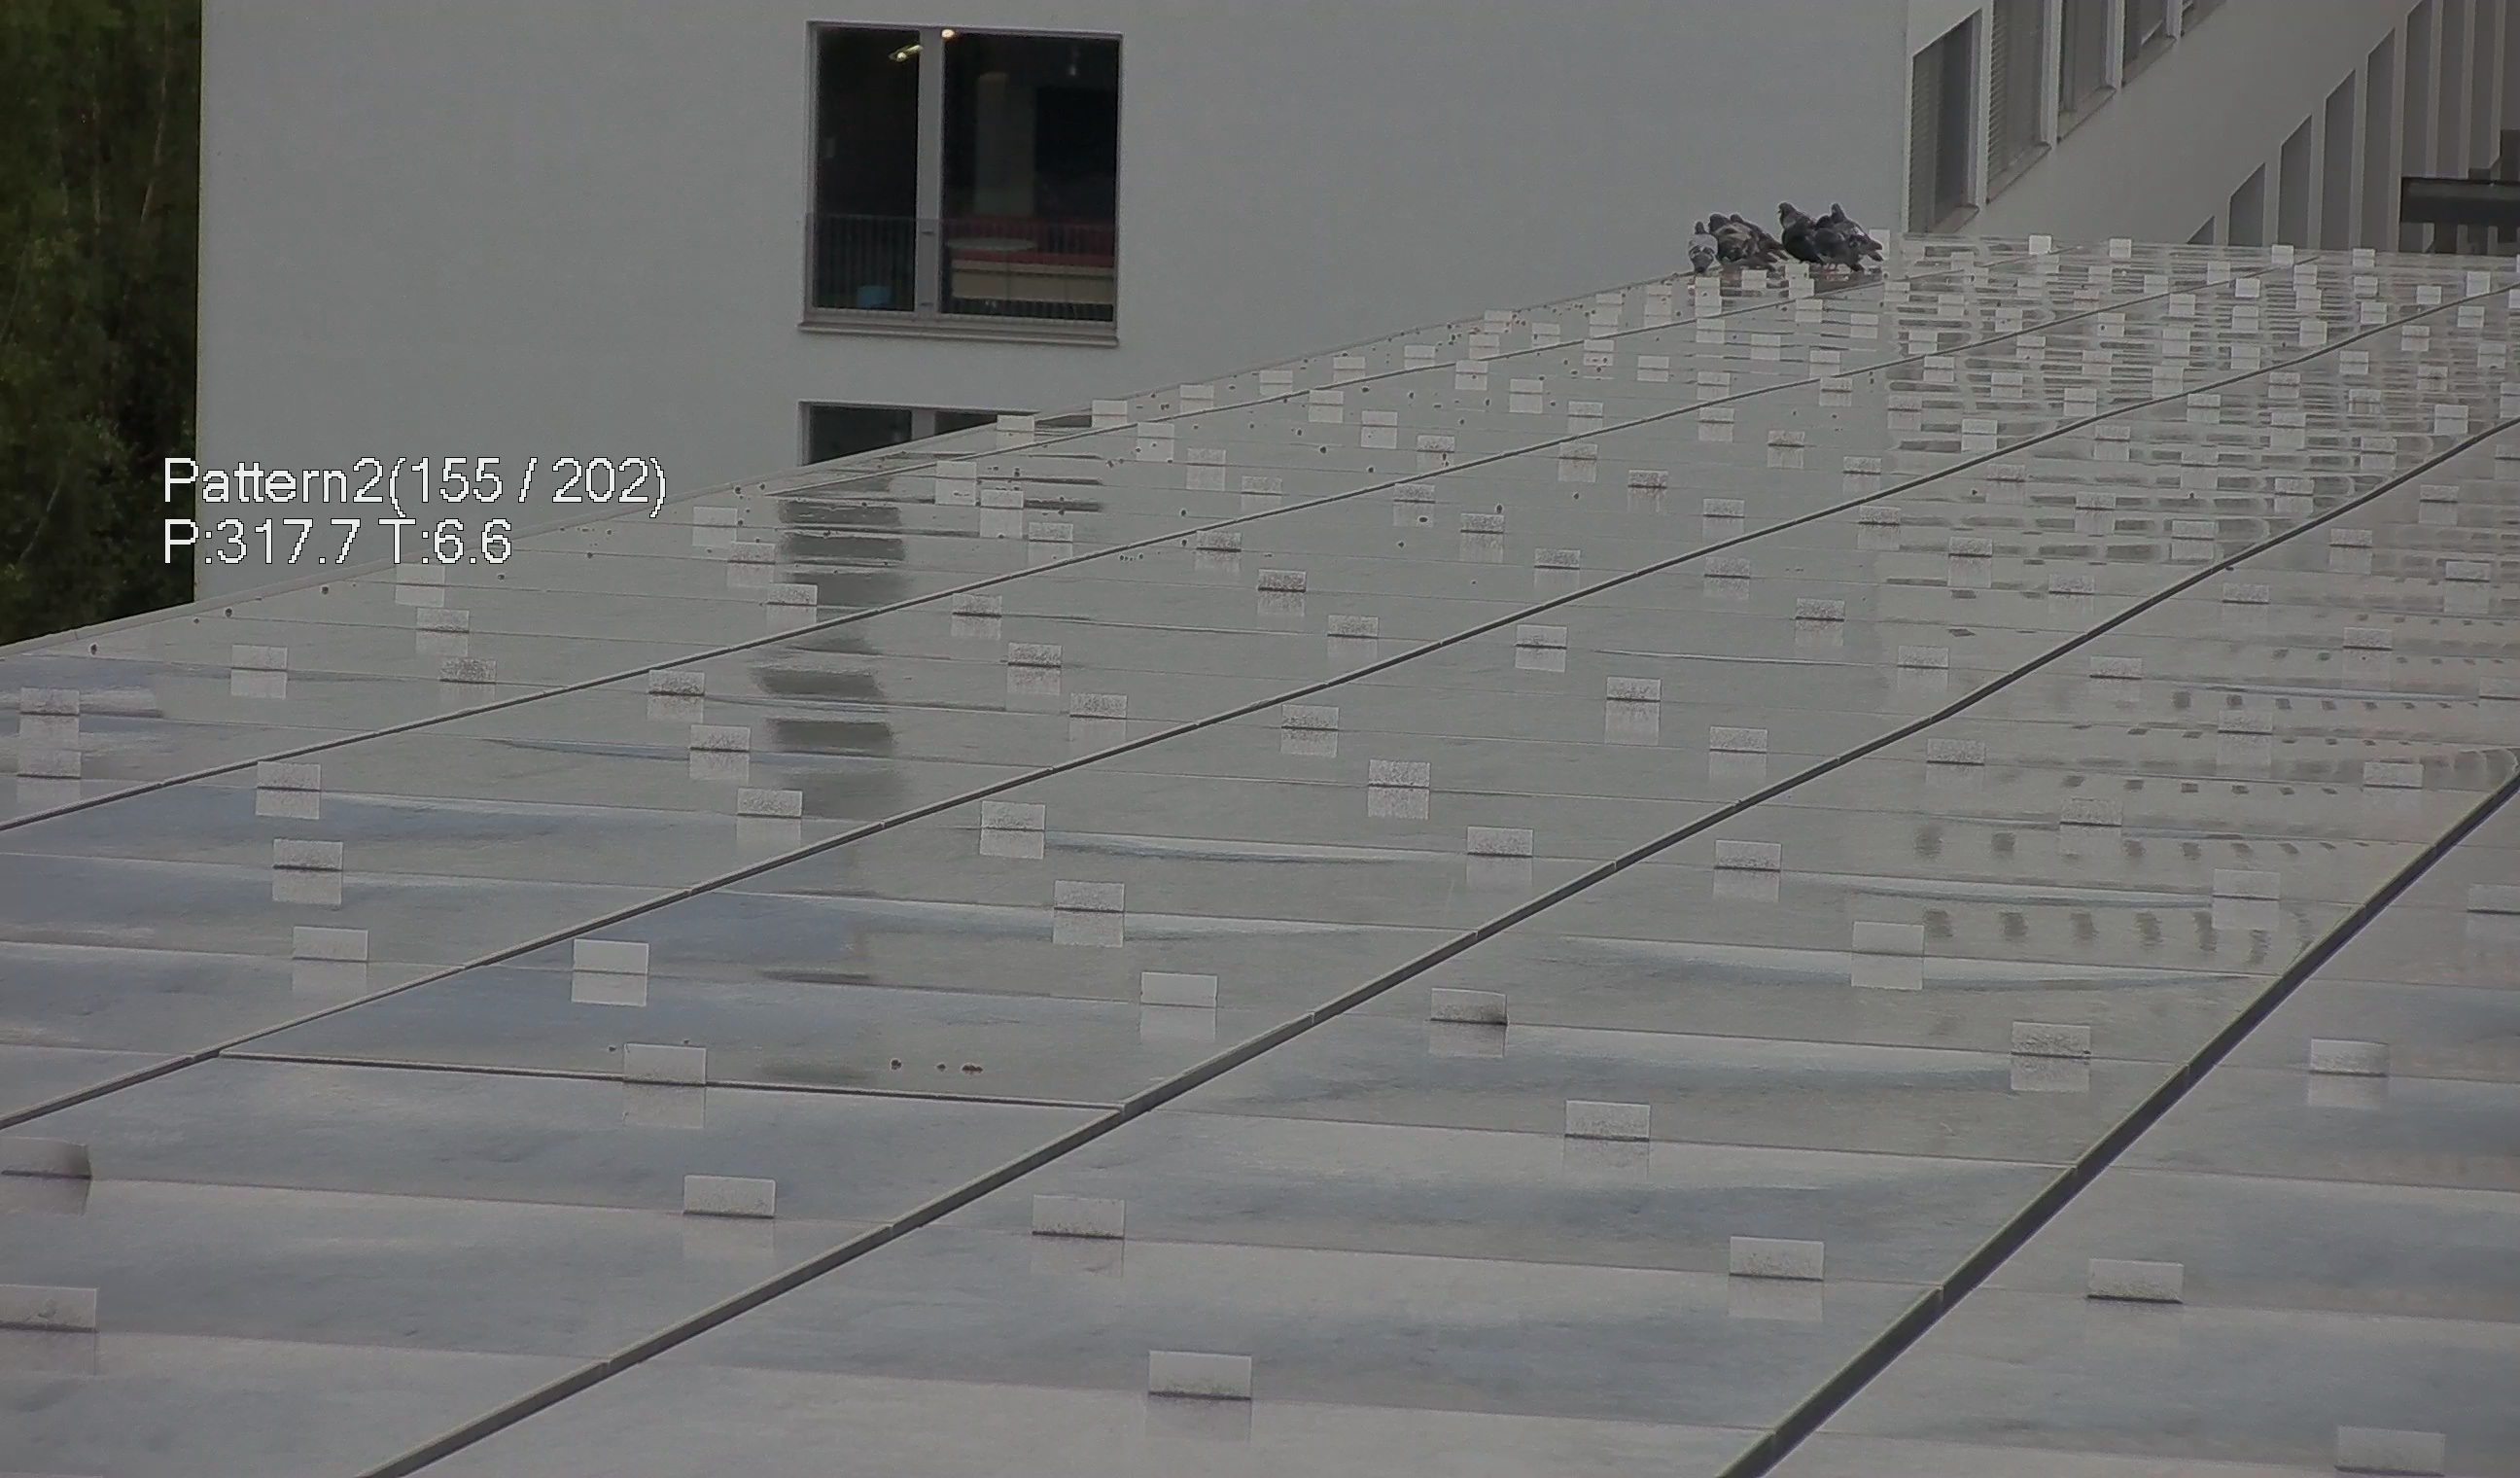Pigeon: (1808, 218, 1873, 285), (1708, 215, 1767, 271), (1685, 211, 1727, 278), (1730, 211, 1785, 257), (1827, 201, 1866, 246), (1771, 199, 1808, 227)
